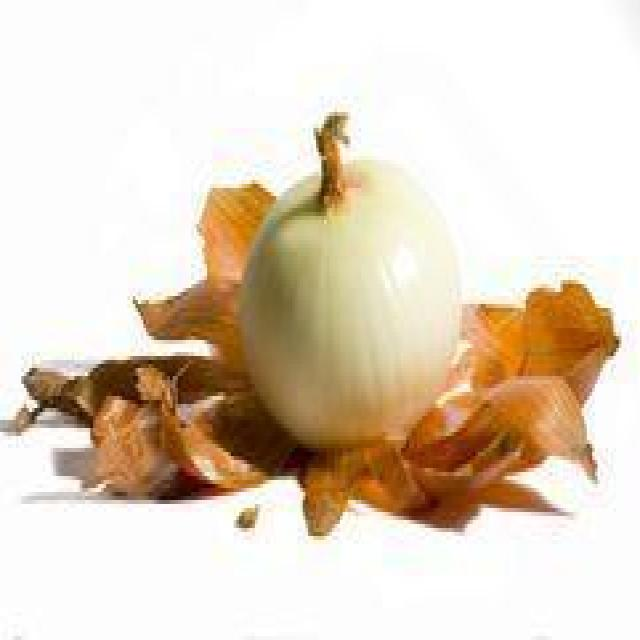Onion: (0, 180, 297, 496), (295, 280, 621, 540), (236, 108, 459, 444), (234, 504, 260, 528)
